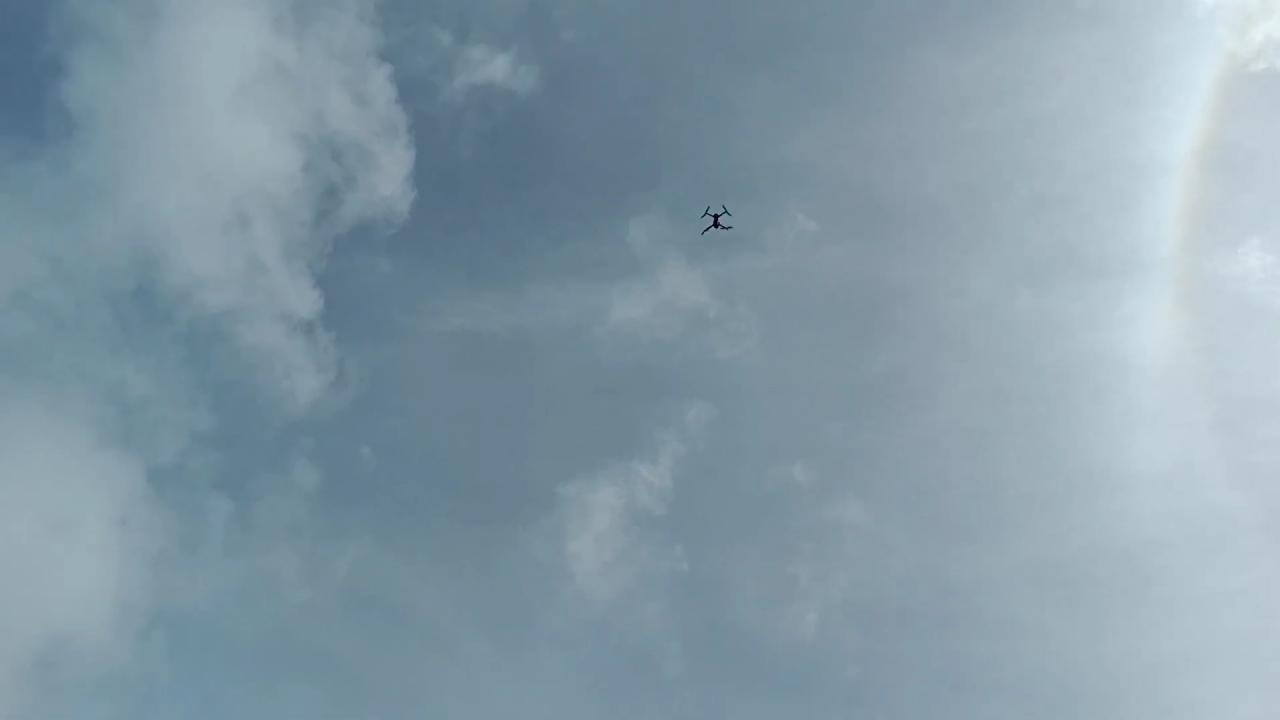Drone: (690, 196, 741, 245)
